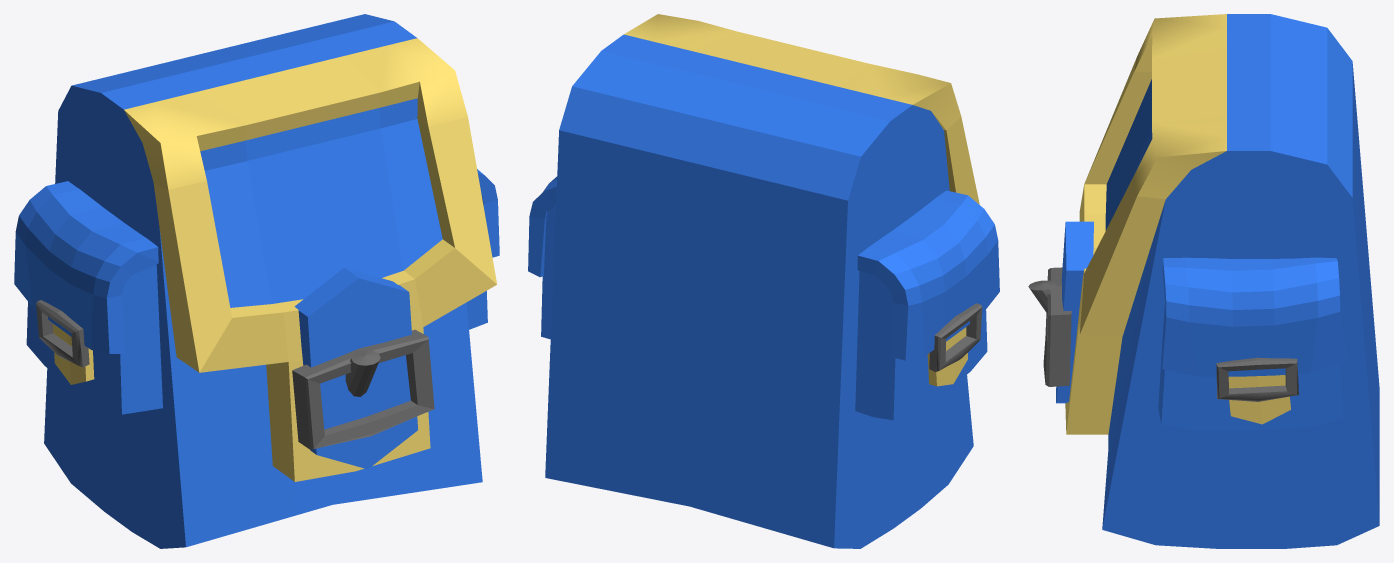
Rendered from Backpack 01.fbx.
The picture shows the model from 3 angles, left to right: view 1: azimuth 30°, elevation 25°; view 2: azimuth 150°, elevation 25°; view 3: azimuth 270°, elevation 25°; orthographic projection. The views are drawn at different scales.
Parts seen in each view (by area): view 1: Backpack; view 2: Backpack; view 3: Backpack.
Part boxes in pixels (x1,y1,x2,y2): Backpack: (14,14,499,548); Backpack: (528,14,999,548); Backpack: (1028,14,1379,548).
Size of the model in its own units: 34.33 by 33.6 by 26.89.
